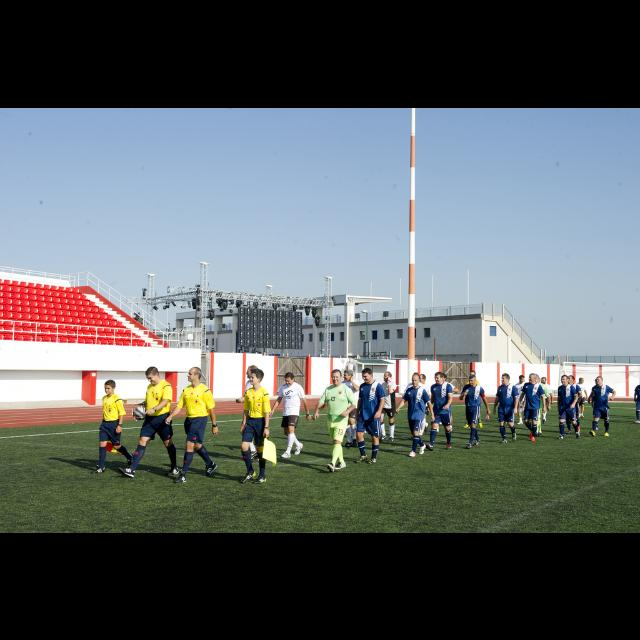Football: (133, 404, 145, 418)
